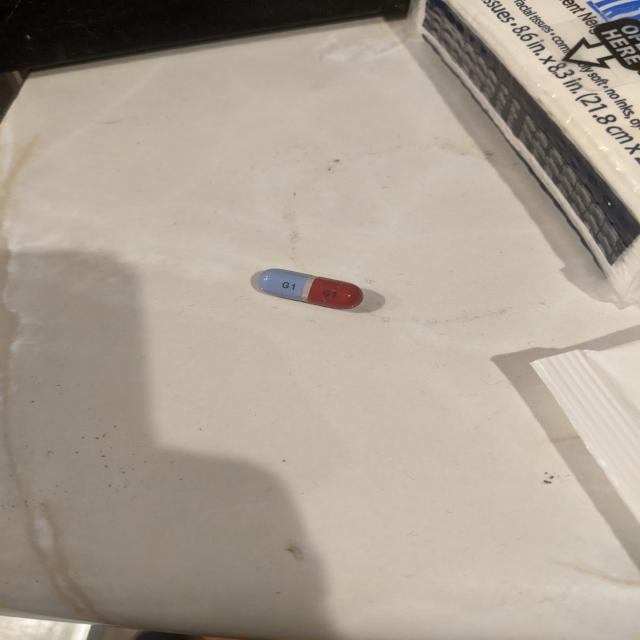non-organic waste: (256, 267, 364, 311)
